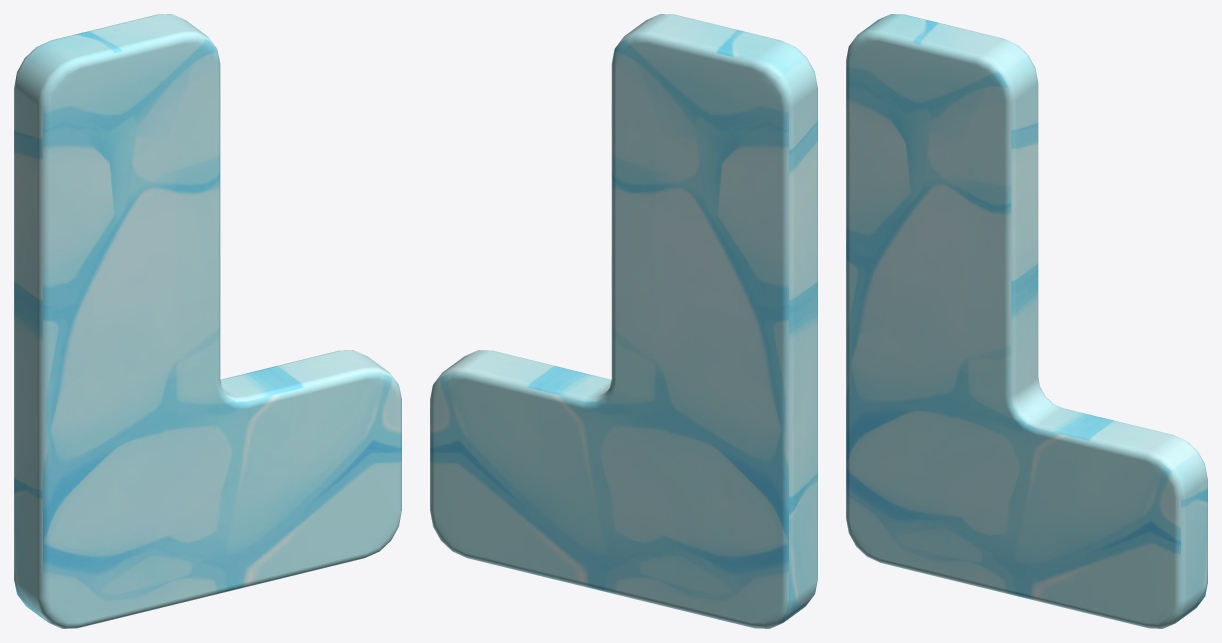
File: Ice_LShape.fbx
The picture shows the model from 3 angles, left to right: view 1: azimuth 30°, elevation 25°; view 2: azimuth 150°, elevation 25°; view 3: azimuth 330°, elevation 25°; orthographic projection. The views are drawn at different scales.
Visible parts, largest first — view 1: Ice_LShape; view 2: Ice_LShape; view 3: Ice_LShape.
Part boxes in pixels (x1,y1,x2,y2): Ice_LShape: (14, 14, 401, 628); Ice_LShape: (430, 14, 817, 628); Ice_LShape: (846, 14, 1207, 628).
Bounding box in the file's own units: 2 × 3 × 0.3.
Materials: 1 (1 with a texture image).
